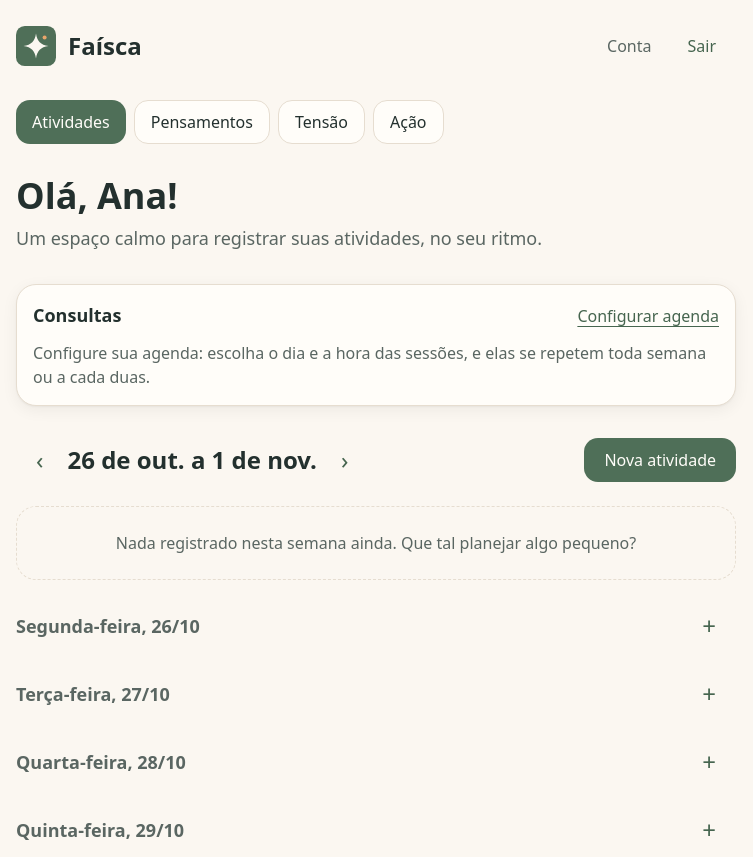
Test case: telas de quem entrou › sair encerra a sessão e volta para a tela de entrar
Click the button "Sair".
click(702, 46)  # box [668,24,736,68]
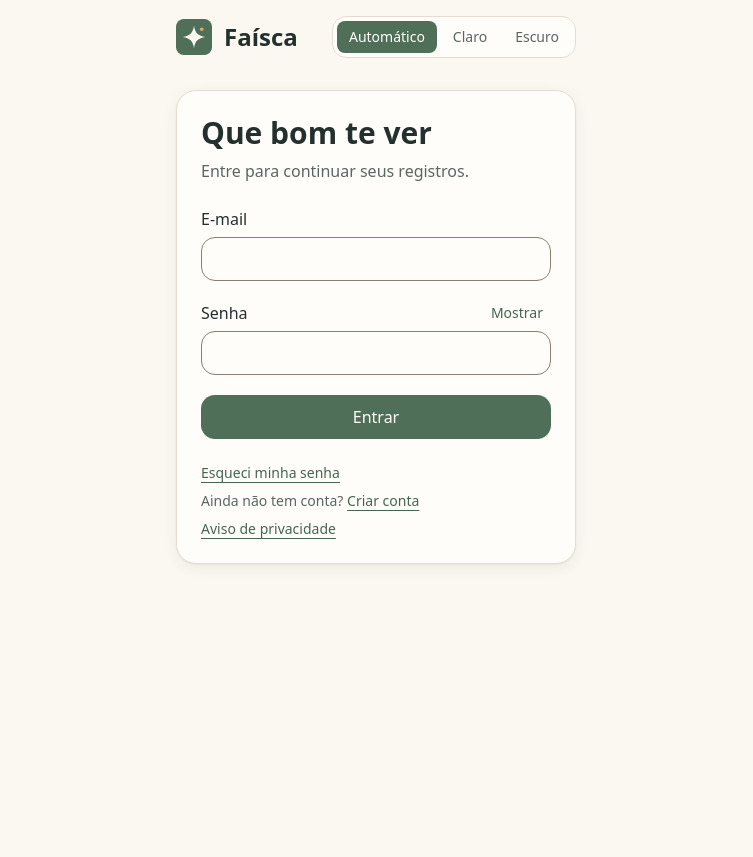
Expected: the heading "Que bom te ver" is shown, [201,112,432,153]
